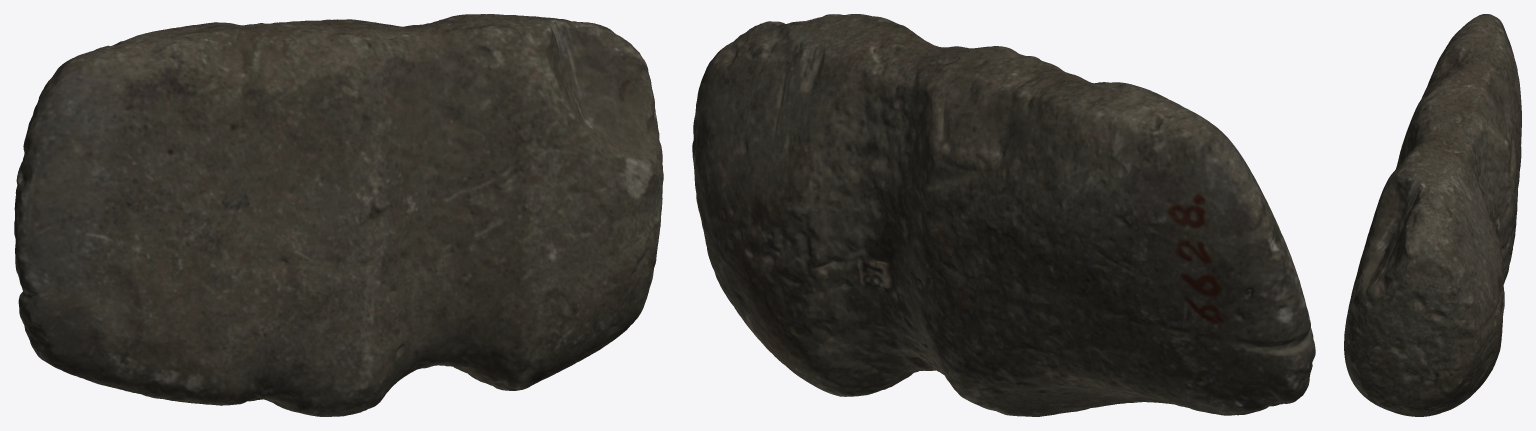
3 views of the same model, side by side, from view 1: azimuth 30°, elevation 25°; view 2: azimuth 150°, elevation 25°; view 3: azimuth 270°, elevation 25° (orthographic). The views are drawn at different scales.
Parts seen in each view (by area): view 1: Node; view 2: Node; view 3: Node.
Part boxes in pixels (x1=…): Node: x1=14, y1=14, x2=663, y2=416; Node: x1=692, y1=14, x2=1315, y2=416; Node: x1=1344, y1=14, x2=1521, y2=416.
Bounding box in the file's own units: 97.71 × 59.86 × 35.71.
Materials: 1 (1 with a texture image).
